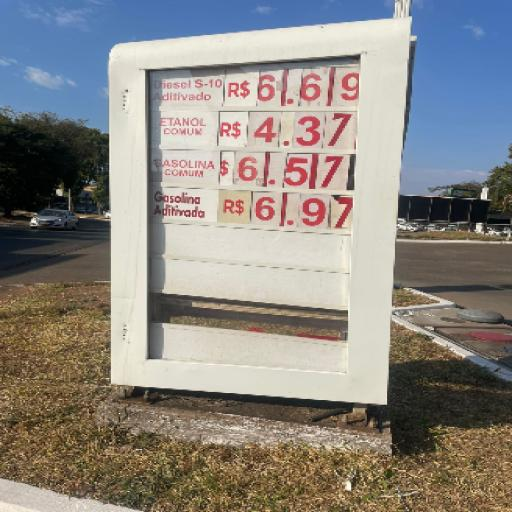ETANOL: (155, 116, 211, 144)
GASOLINA AD: (154, 190, 215, 222)
GASOLINA C: (152, 155, 218, 183)
S10: (150, 73, 225, 103)
placa: (109, 24, 409, 403)
preco: (235, 152, 348, 188), (259, 66, 359, 106), (250, 112, 354, 148), (253, 193, 352, 230)
